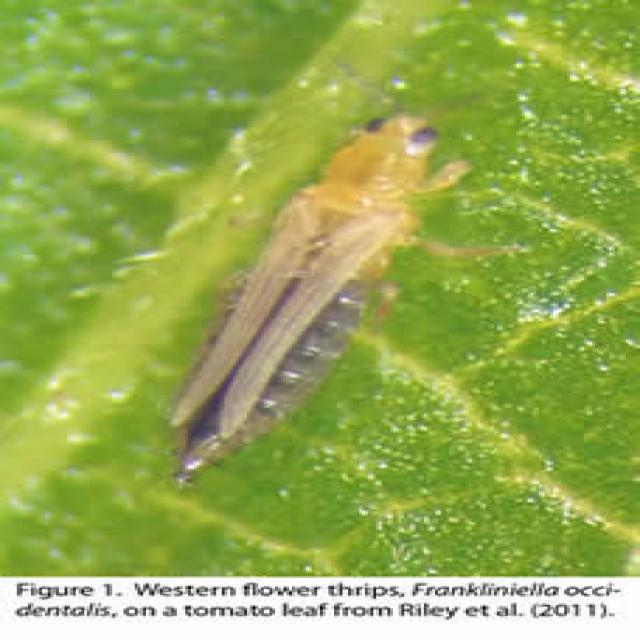Thrip-Adult-: (122, 99, 522, 517)
